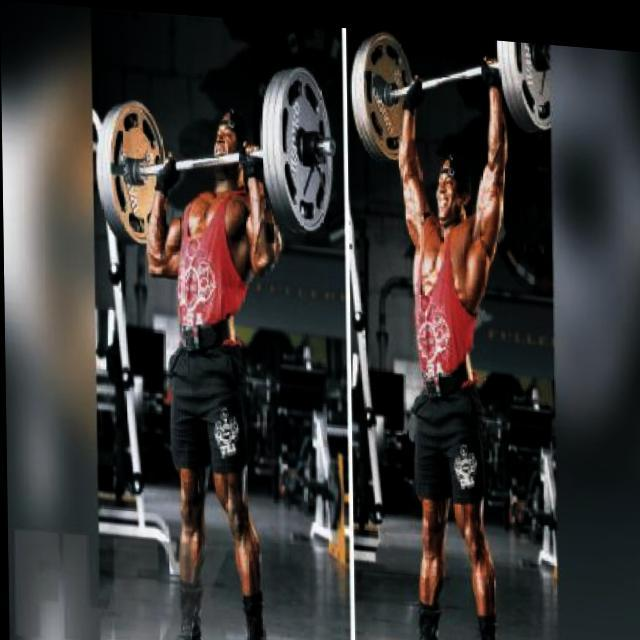barbell: (264, 57, 339, 235)
